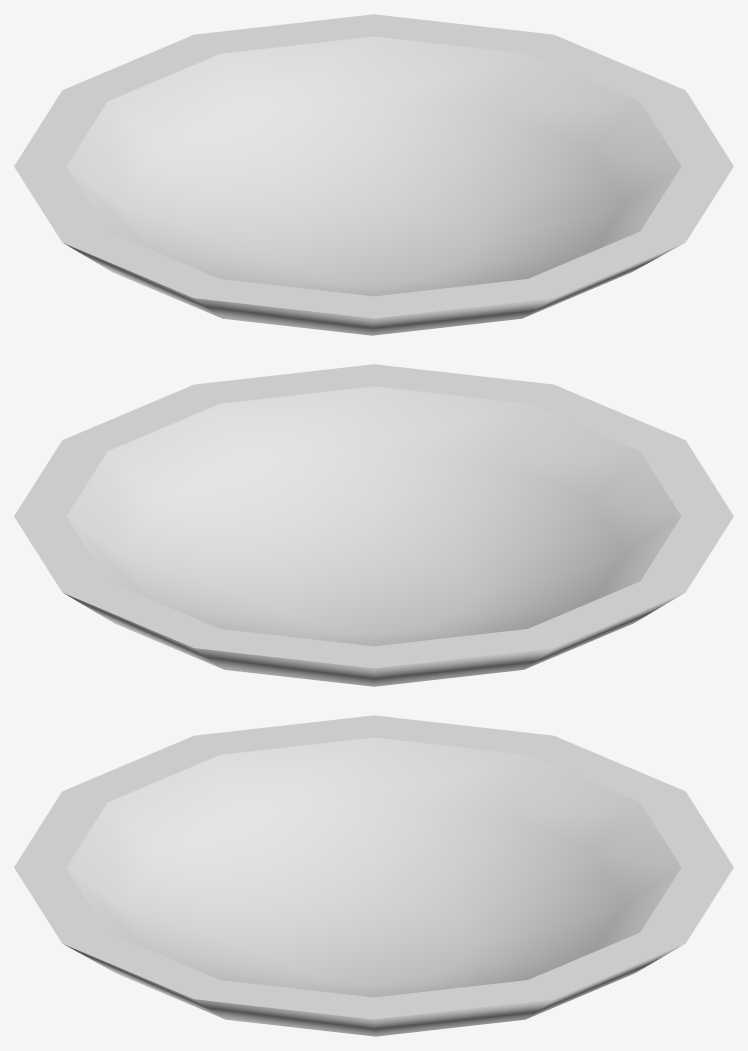
File: plate.glb
3 renders of one model, top to bottom at view 1: azimuth 30°, elevation 25°; view 2: azimuth 150°, elevation 25°; view 3: azimuth 270°, elevation 25°, orthographic.
Visible parts, largest first — view 1: Plate (Big); view 2: Plate (Big); view 3: Plate (Big).
Part boxes in pixels (x1=…): Plate (Big): x1=14, y1=14, x2=733, y2=335; Plate (Big): x1=14, y1=364, x2=733, y2=686; Plate (Big): x1=14, y1=715, x2=733, y2=1036.
Bounding box in the file's own units: 0.3745 × 0.0477 × 0.3745.
1 material, 1 textured.
